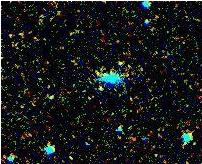star: (85, 72, 115, 102)
